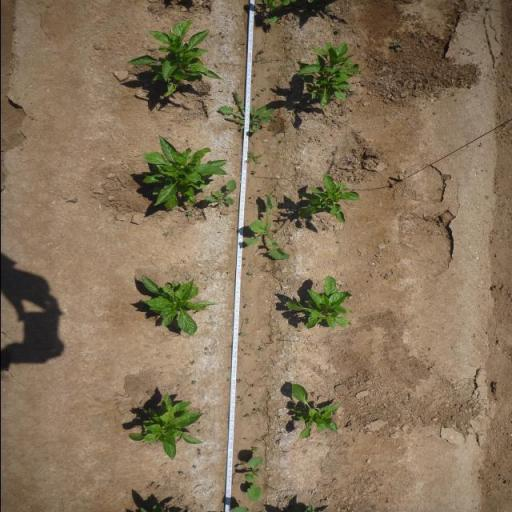plant: (125, 18, 223, 97), (136, 135, 229, 212), (126, 390, 208, 460), (134, 274, 217, 337), (291, 41, 362, 108), (284, 274, 356, 332), (297, 172, 361, 224), (287, 380, 342, 439)
weed: (238, 192, 294, 263), (218, 93, 276, 134), (202, 180, 240, 208), (243, 456, 264, 500), (257, 0, 292, 26), (246, 148, 264, 166), (390, 40, 404, 50), (255, 57, 271, 62), (245, 270, 253, 276), (235, 378, 243, 384), (250, 446, 258, 452), (242, 413, 251, 418), (346, 92, 354, 97), (161, 231, 169, 236), (238, 332, 246, 337), (254, 408, 262, 413), (178, 470, 184, 476), (186, 211, 193, 216), (258, 346, 265, 351), (250, 170, 256, 175), (260, 88, 266, 92), (190, 380, 196, 384), (237, 396, 242, 399)
